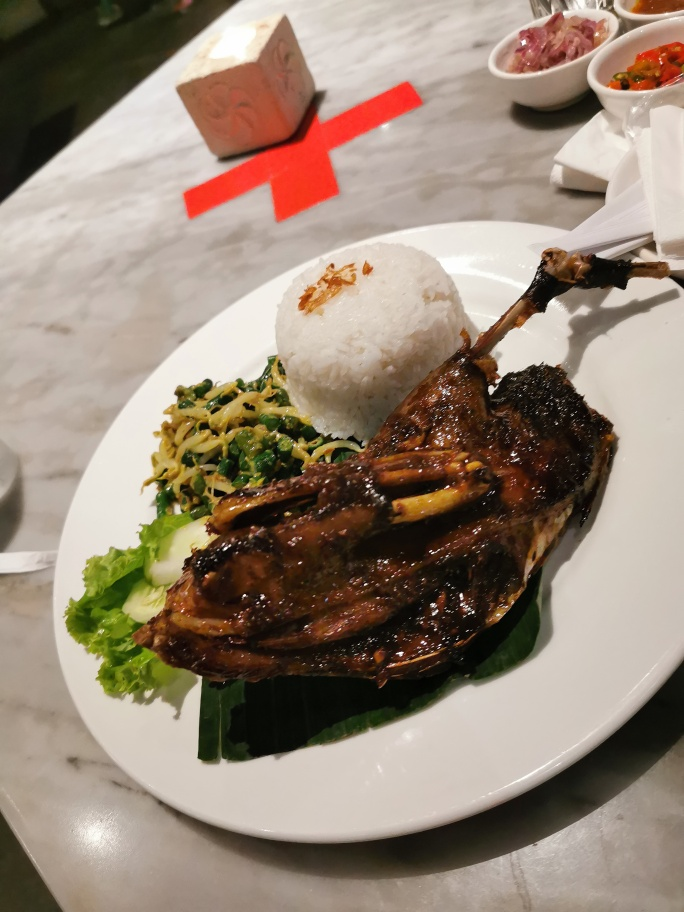bebek bakar: (126, 255, 674, 681)
nasi putih: (266, 240, 468, 439)
